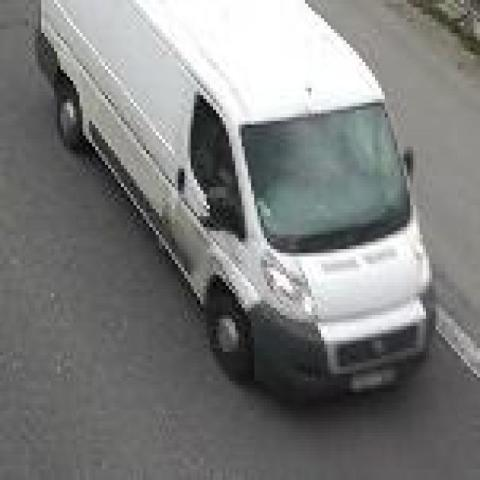van: (40, 0, 434, 403)
